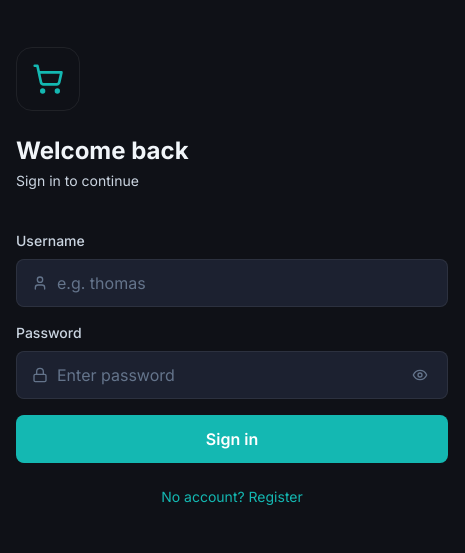
it: LoginScreen › shows unknown user error from signIn
The image size is (465, 553).
Type "nobody" into the field labelled "Username" at [232, 283], box [16, 259, 448, 307]
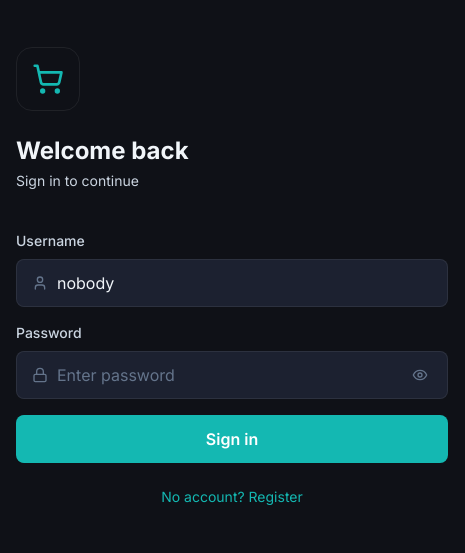
Type "password123" into the password field labelled "Password" at [232, 375], box [16, 351, 448, 399]
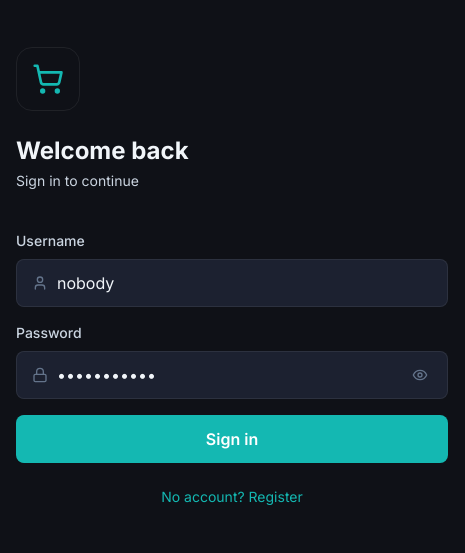
Click the button "Sign in" at [232, 439], box [16, 415, 448, 463]
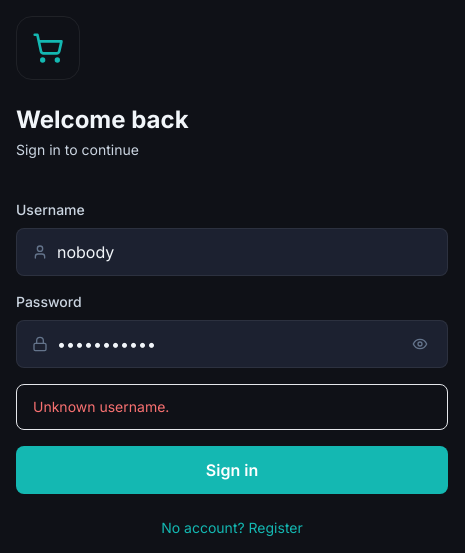
Result: the text "Unknown username." is shown at [16, 384, 448, 430]
